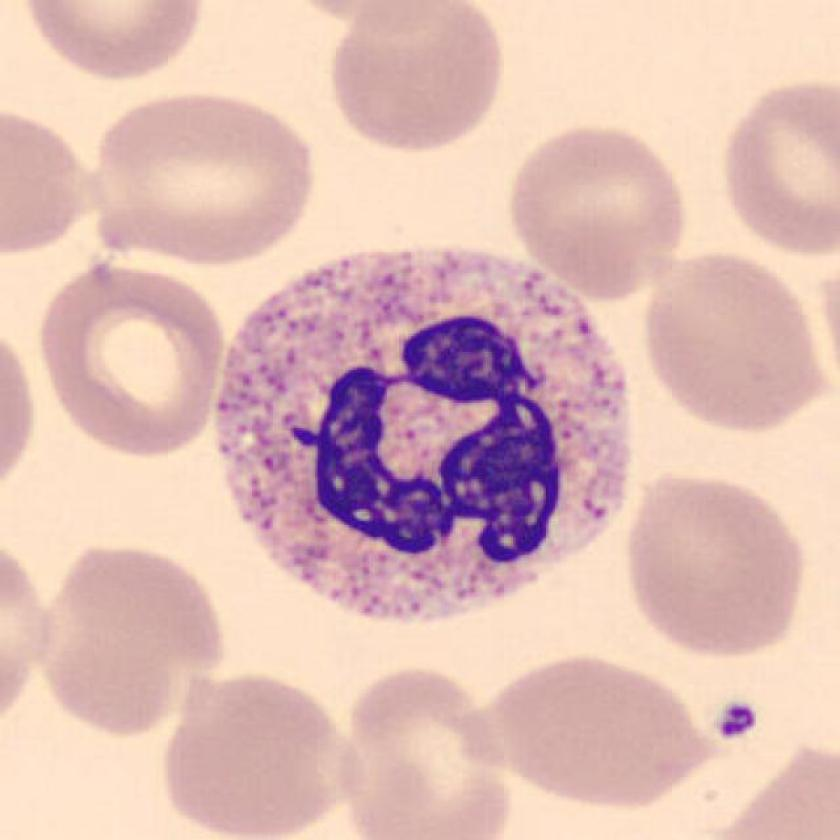neutrophil: (215, 250, 631, 622)
